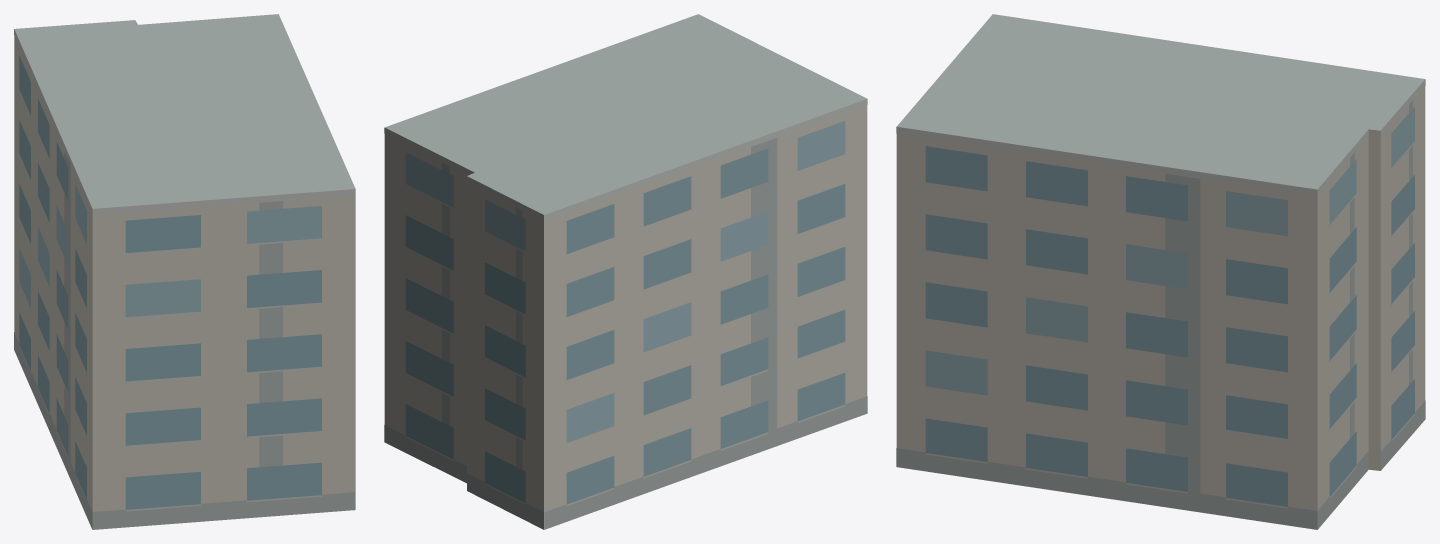
Rendered from survey-upis-32999456.glb.
3 renders of one model, left to right at view 1: azimuth 30°, elevation 25°; view 2: azimuth 150°, elevation 25°; view 3: azimuth 270°, elevation 25°, orthographic. The views are drawn at different scales.
Visible parts, largest first — view 1: survey-upis-32999456.tmp; view 2: survey-upis-32999456.tmp; view 3: survey-upis-32999456.tmp.
Boxes of the visible parts, bbox=[...] form: survey-upis-32999456.tmp: bbox=[14, 14, 355, 529]; survey-upis-32999456.tmp: bbox=[384, 14, 867, 529]; survey-upis-32999456.tmp: bbox=[896, 14, 1425, 529].
Bounding box in the file's own units: 13.4 × 12.1 × 17.05.
